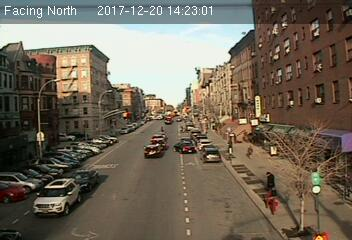car: (32, 178, 82, 219), (67, 167, 100, 192), (172, 140, 196, 156), (200, 146, 223, 162), (142, 144, 164, 159)
pedestrian: (263, 170, 278, 197), (244, 145, 255, 160)
